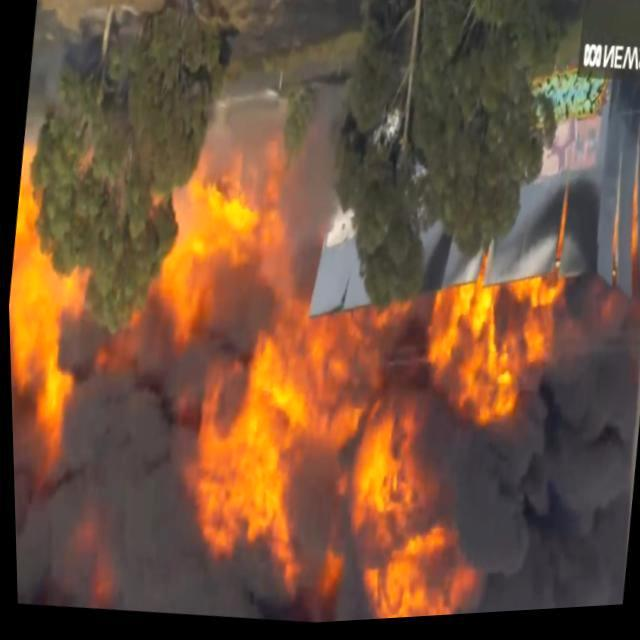fire: (164, 272, 516, 632), (152, 185, 278, 351), (6, 262, 92, 468), (7, 150, 53, 270)
